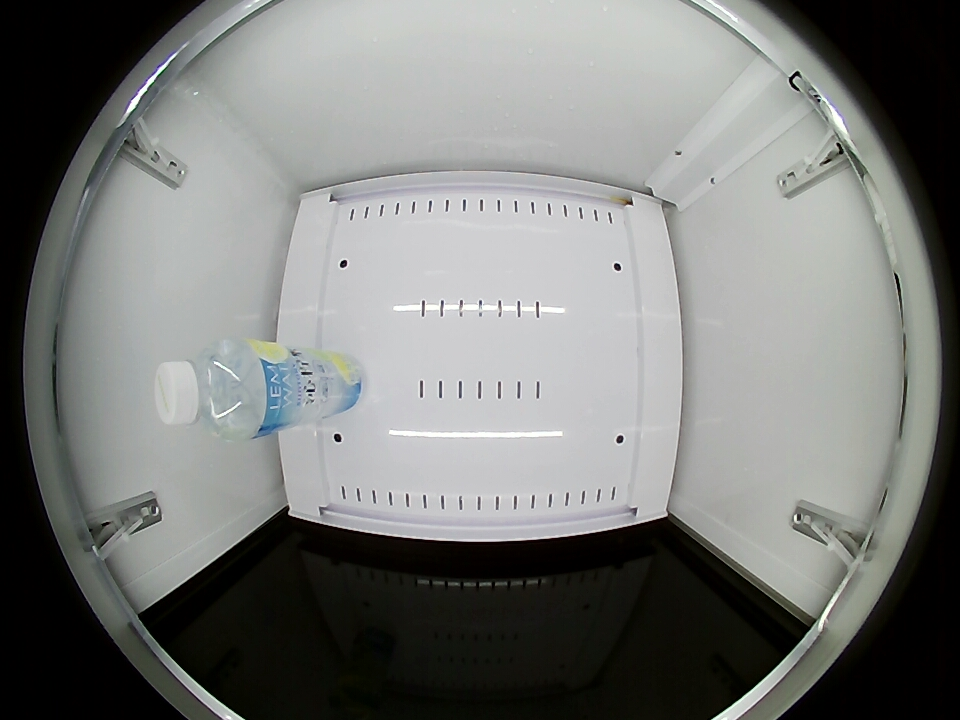qinningshui: (155, 339, 267, 442)
